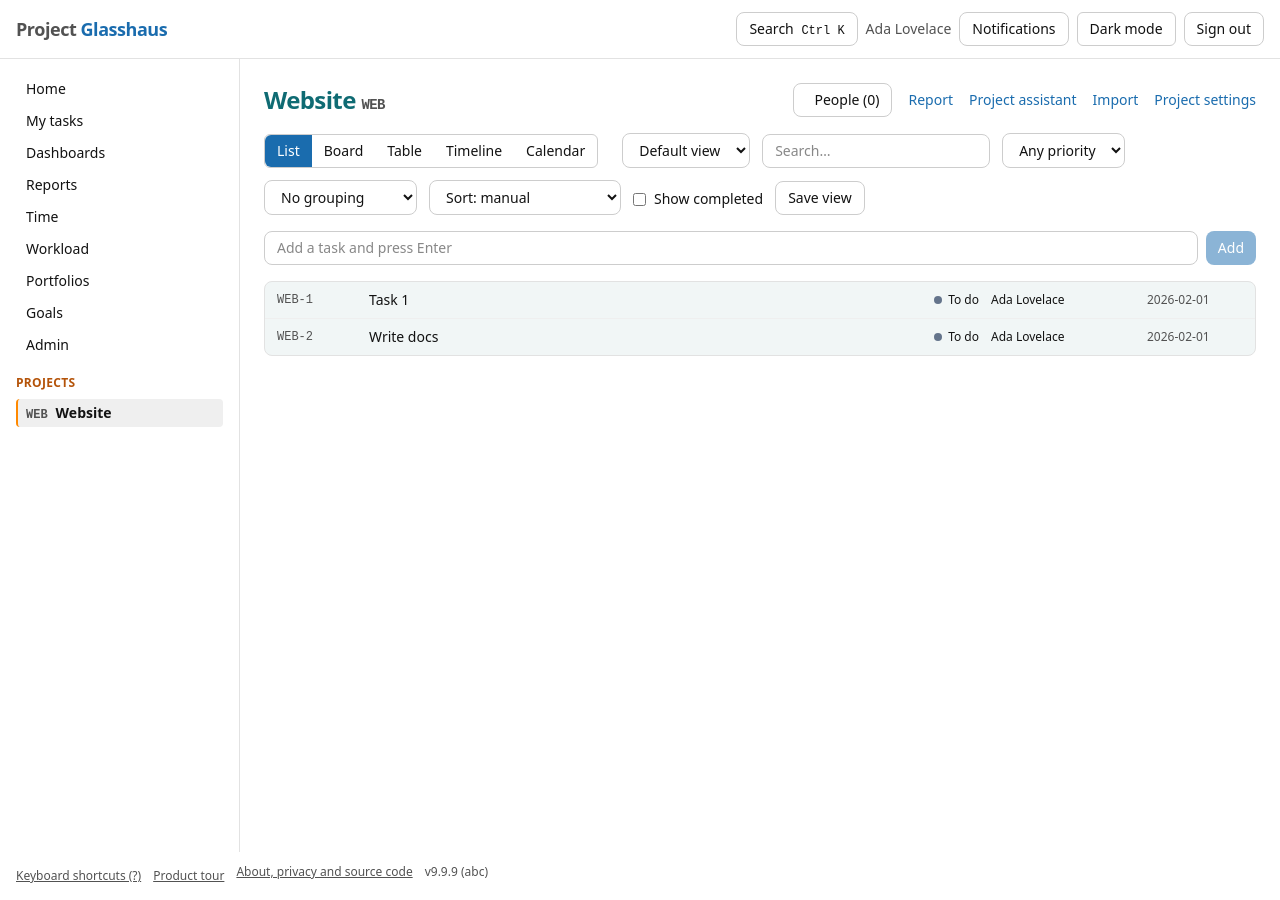
project views › list view shows tasks and creates one with the CSRF header
The image size is (1280, 900).
Expected: the text "Write docs" is shown, [369,327,438,346]
In the field named "New task title": (731, 248) [264,231,1198,265], type "Ship it"
Then press Enter
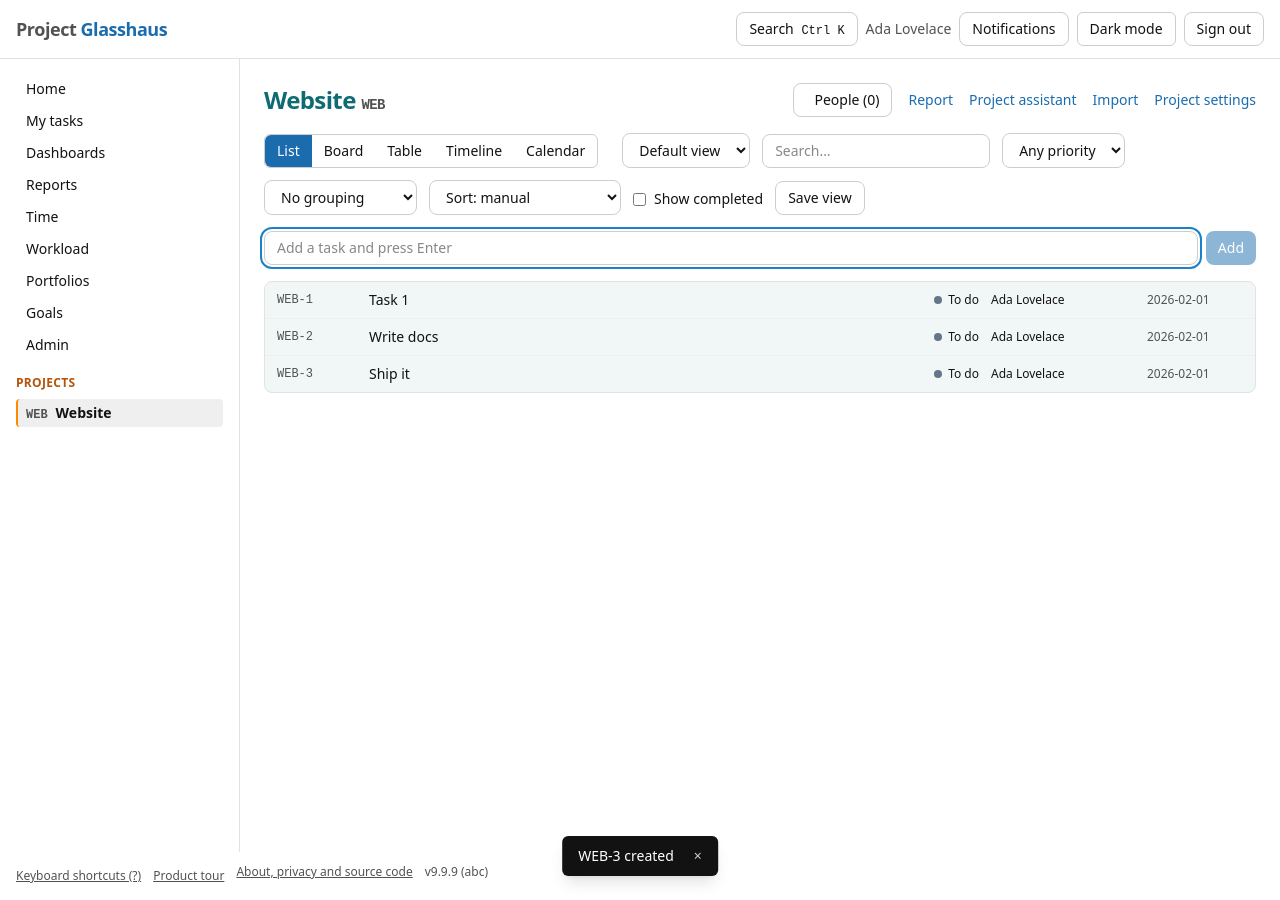
Result: the text "Ship it" is shown at [369,364,410,383]
